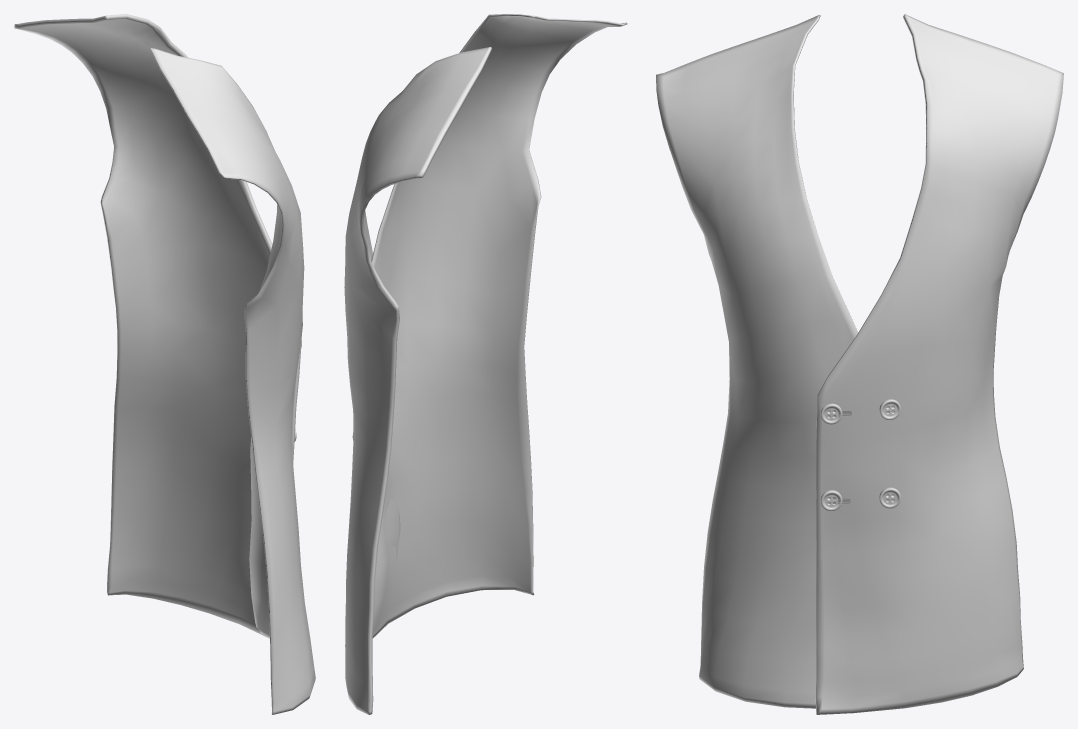
3 views of the same model, side by side, from view 1: azimuth 30°, elevation 25°; view 2: azimuth 150°, elevation 25°; view 3: azimuth 270°, elevation 25° (orthographic). The views are drawn at different scales.
Parts seen in each view (by area): view 1: SM_J_FrontB4*2; view 2: SM_J_FrontB4*2; view 3: SM_J_FrontB4*2, SM_J_B_FrontB4*2.
Boxes of the visible parts, x1,y1,x2,y2 form: SM_J_FrontB4*2: [14, 14, 315, 714]; SM_J_FrontB4*2: [344, 14, 627, 714]; SM_J_FrontB4*2: [656, 14, 1063, 714]; SM_J_B_FrontB4*2: [820, 399, 901, 510].
Size of the model in its own units: 1.09 by 4.04 by 2.37.
4 materials, 1 textured.
